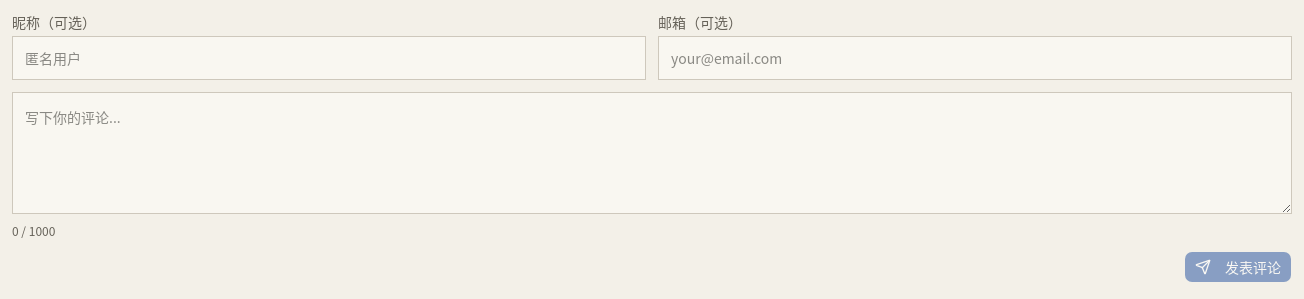
CommentForm › should update character count when typing
This screenshot has width=1304, height=299.
Type "Hello world" into the text box with placeholder "写下你的评论..." at (652, 153), box [12, 92, 1292, 214]
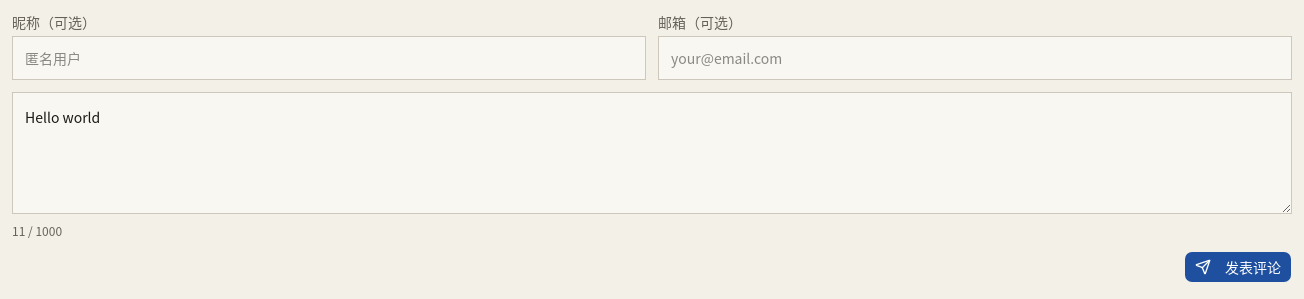
expect the text "11 / 1000" is shown: met, box [12, 223, 62, 239]
